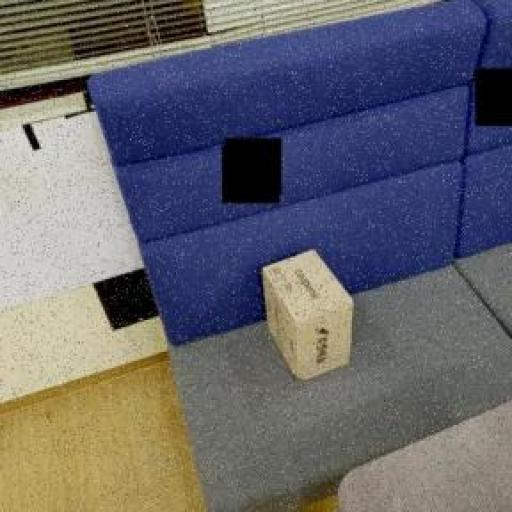box: (257, 244, 372, 398)
